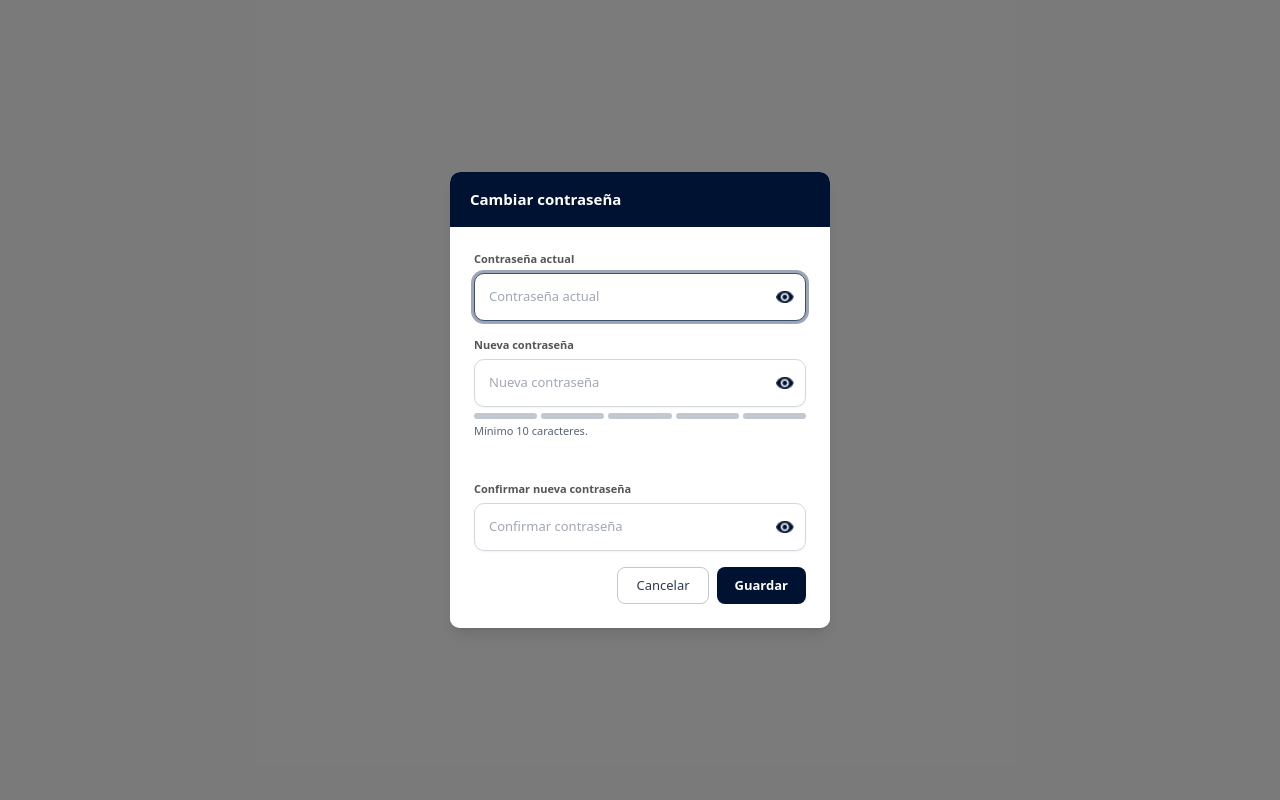
CambiarPasswordDialog: guardado › éxito: manda actual y nueva (sin la confirmación), cierra y avisa "Contraseña cambiada correctamente."; la sesión sigue
Type "secreta1" into the password field labelled "Contraseña actual" at (640, 297), box [474,273,806,320]
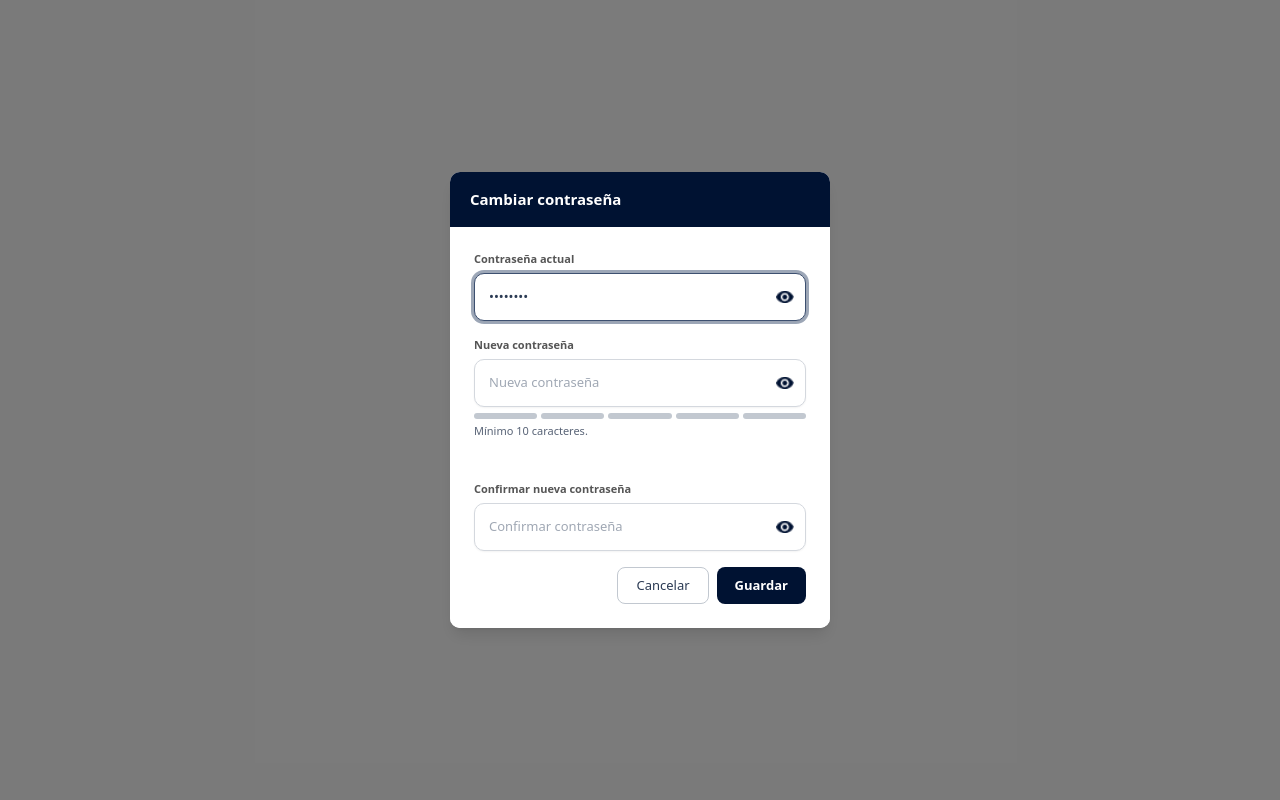
Type "nueva-larga-123" into the password field labelled "Nueva contraseña" at (640, 383), box [474,359,806,406]
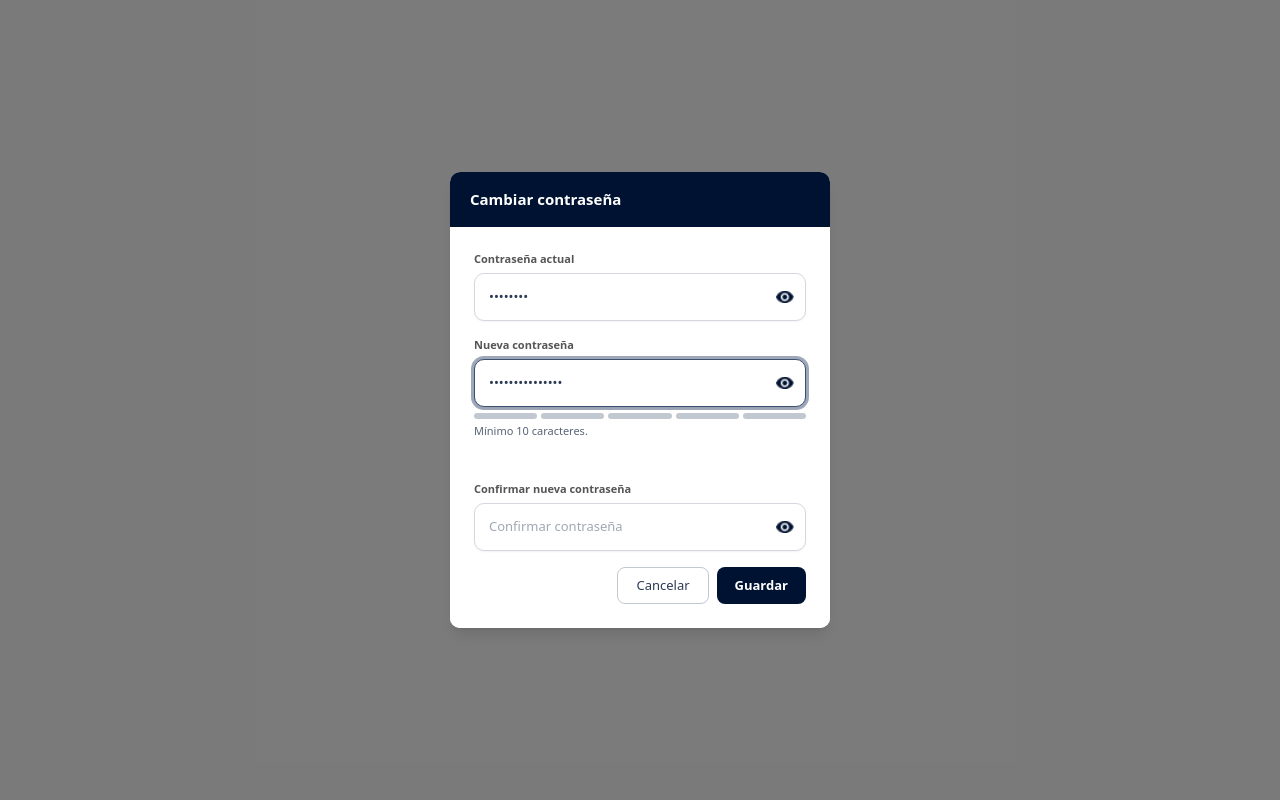
Type "nueva-larga-123" into the password field named "Confirmar nueva contraseña" at (640, 527), box [474,503,806,550]
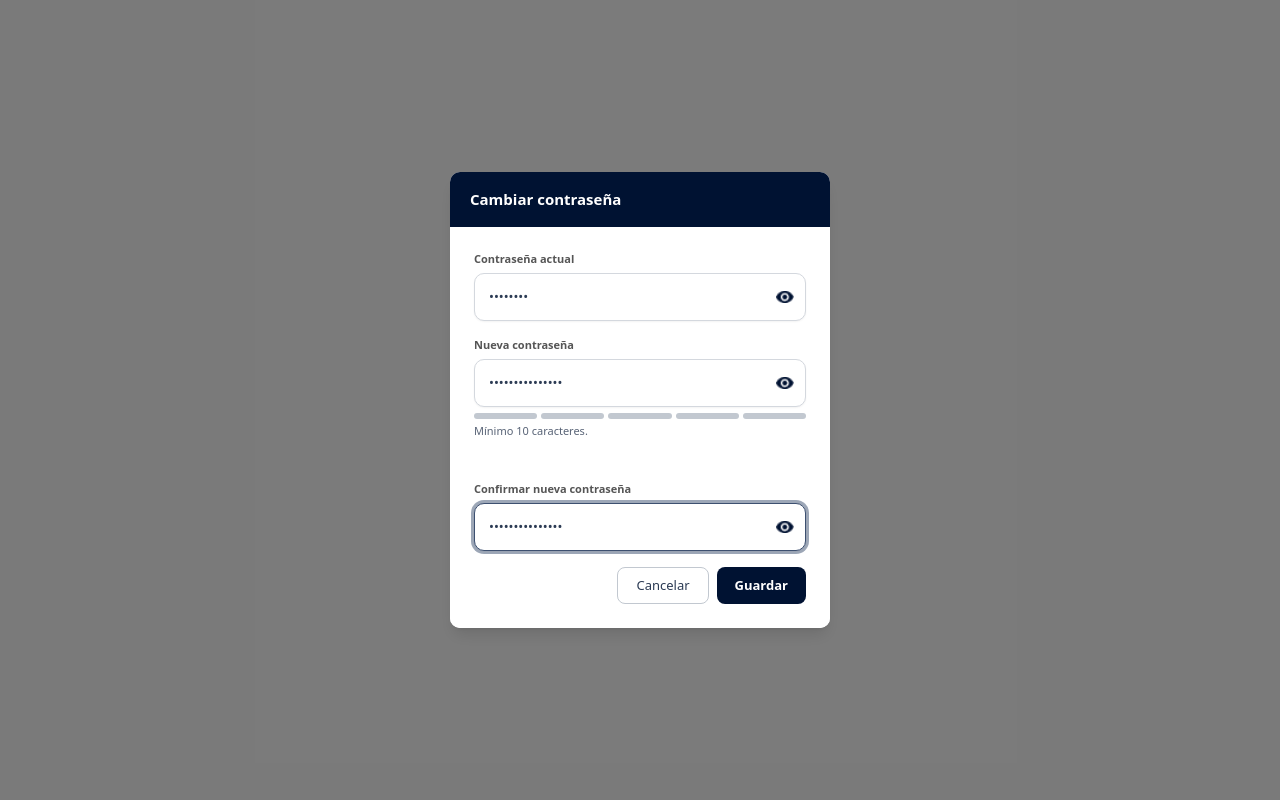
Click the button "Guardar" at (761, 585), box [717,566,806,604]
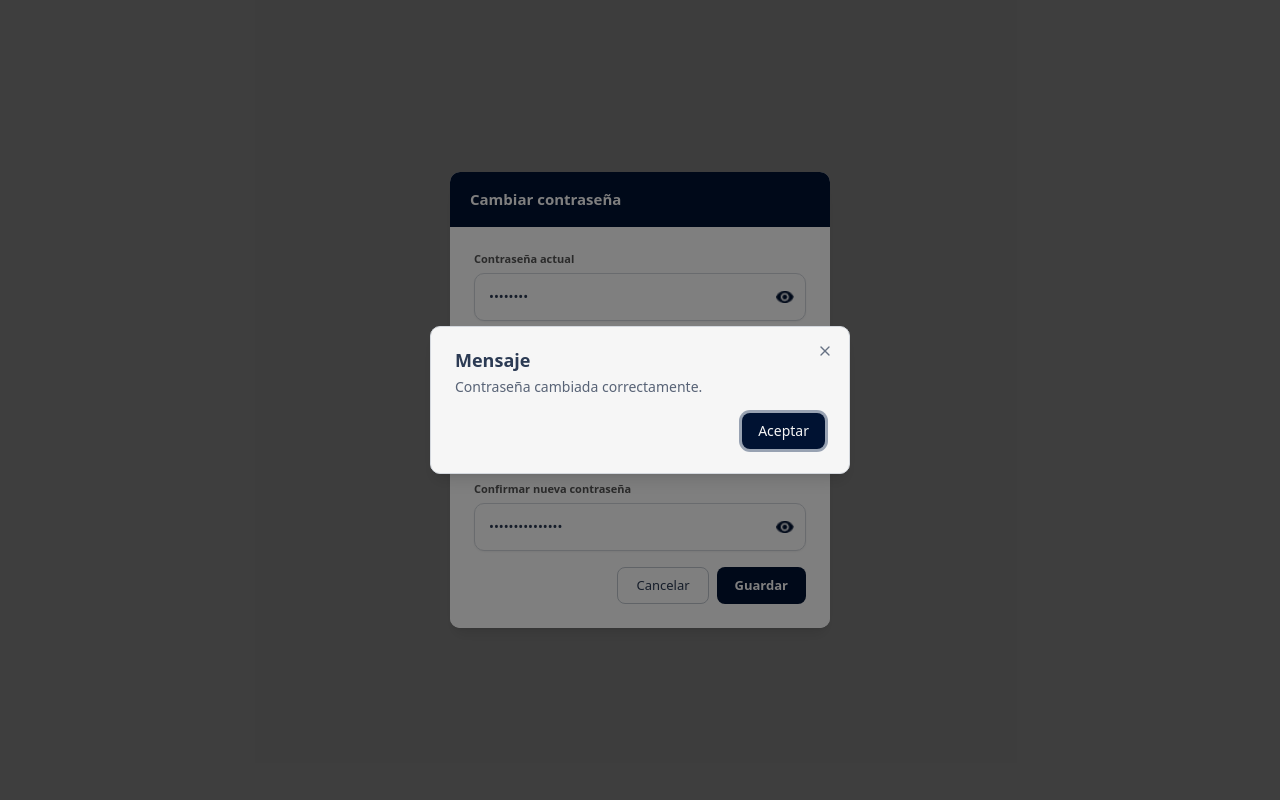
Expected: the dialog "Mensaje" shows "Contraseña cambiada correctamente.", [455,377,702,396]
